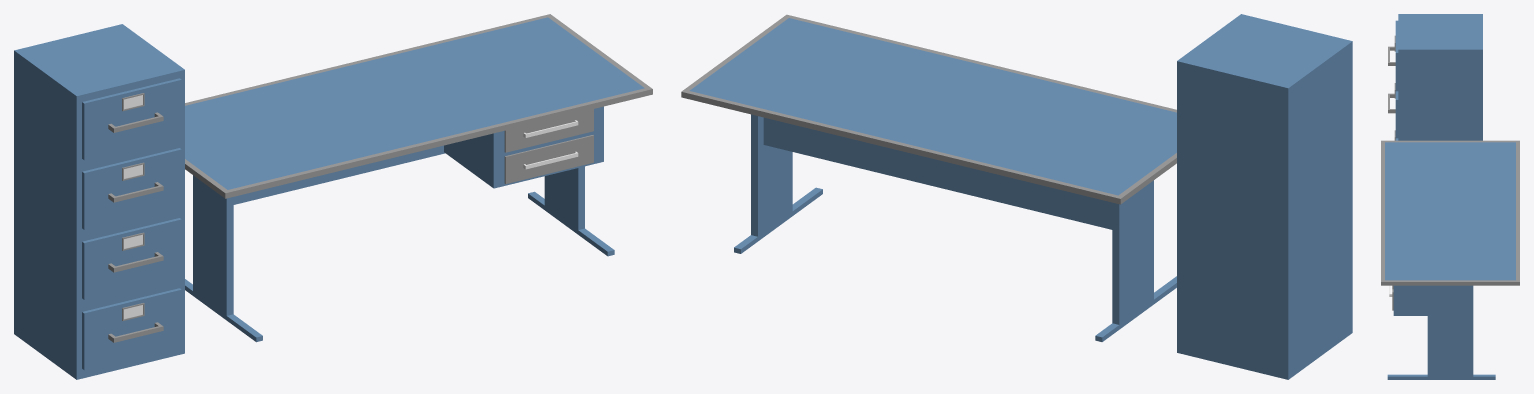
The model's file is Office.FBX.
3 views of the same model, side by side, from view 1: azimuth 30°, elevation 25°; view 2: azimuth 150°, elevation 25°; view 3: azimuth 270°, elevation 25° (orthographic). The views are drawn at different scales.
Visible parts, largest first — view 1: Mesinha, Arquivo; view 2: Mesinha, Arquivo; view 3: Mesinha, Arquivo.
Boxes of the visible parts, box(x1,y1,x2,y2) form: Mesinha: box(185, 14, 652, 342); Arquivo: box(14, 24, 184, 379); Mesinha: box(681, 14, 1176, 341); Arquivo: box(1177, 14, 1352, 379); Mesinha: box(1381, 140, 1519, 379); Arquivo: box(1388, 14, 1482, 140).
Size of the model in its own units: 104 by 50 by 32.76.
